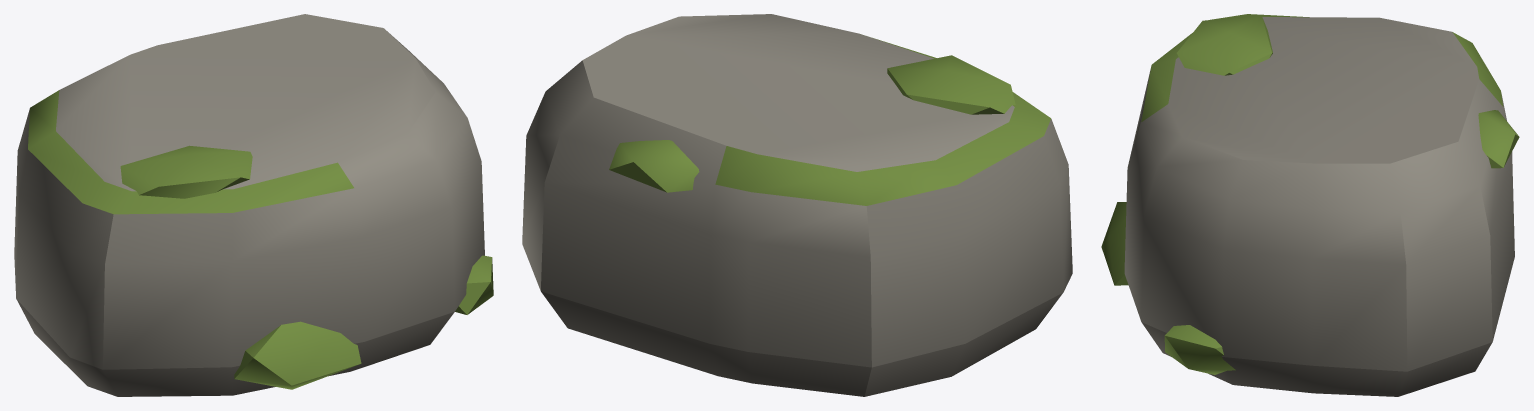
Rendered from stepping_stone.glb.
3 views of the same model, side by side, from view 1: azimuth 30°, elevation 25°; view 2: azimuth 150°, elevation 25°; view 3: azimuth 270°, elevation 25° (orthographic). The views are drawn at different scales.
Visible parts, largest first — view 1: stepping_stone; view 2: stepping_stone; view 3: stepping_stone.
Boxes of the visible parts, bbox=[...] form: stepping_stone: bbox=[14, 14, 493, 396]; stepping_stone: bbox=[522, 14, 1072, 396]; stepping_stone: bbox=[1101, 14, 1519, 396].
Size of what is drawn, in the model's own units: 0.5487 by 0.2641 by 0.45.
